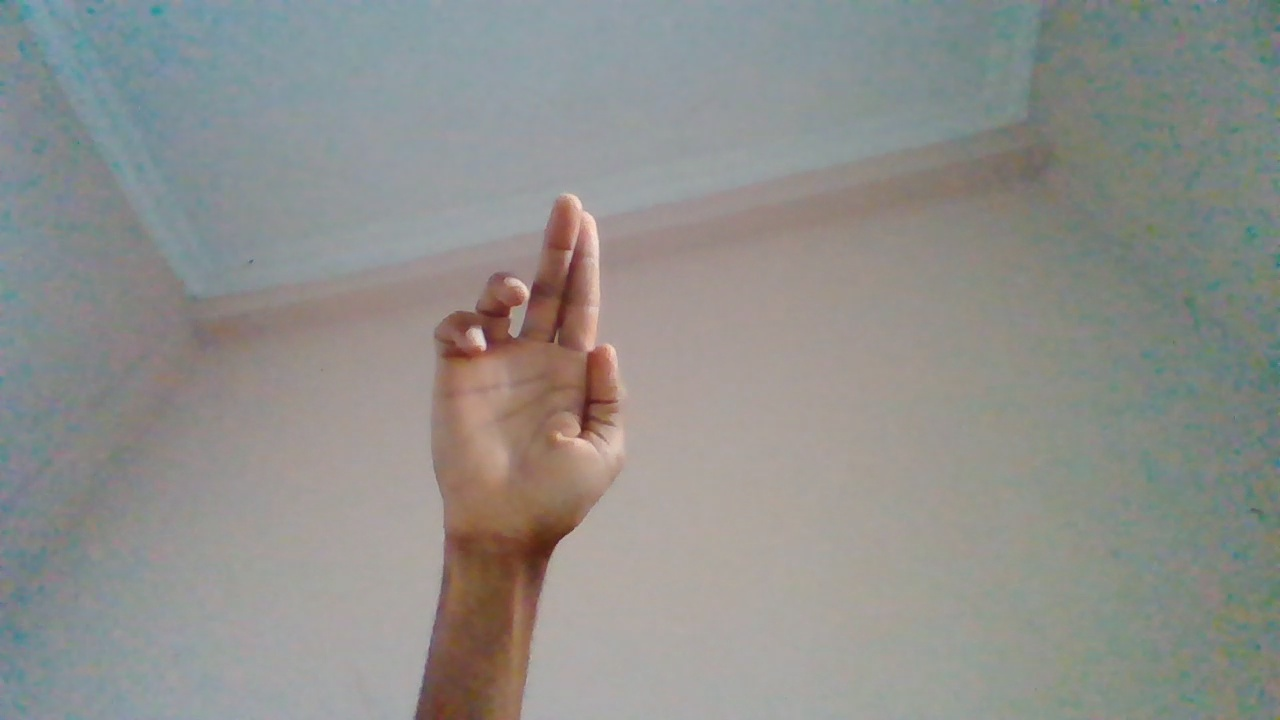gne: (423, 191, 627, 605)
